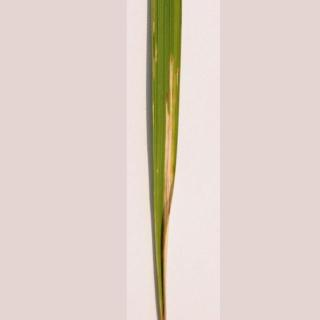Hawar-Daun: (137, 5, 186, 319)
